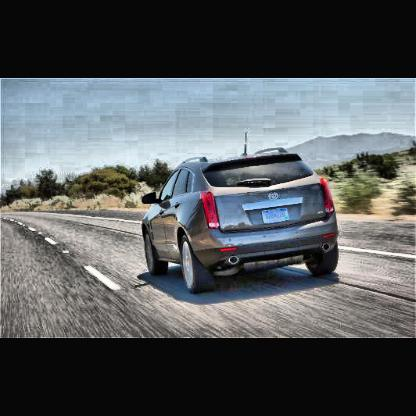Cadillac SRX SUV 2012: (144, 128, 341, 297)
